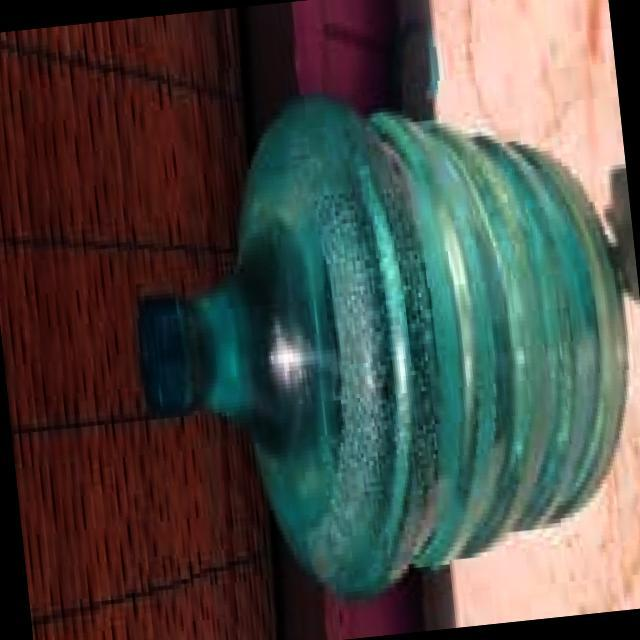HDPE Plastic: (132, 94, 634, 600)
